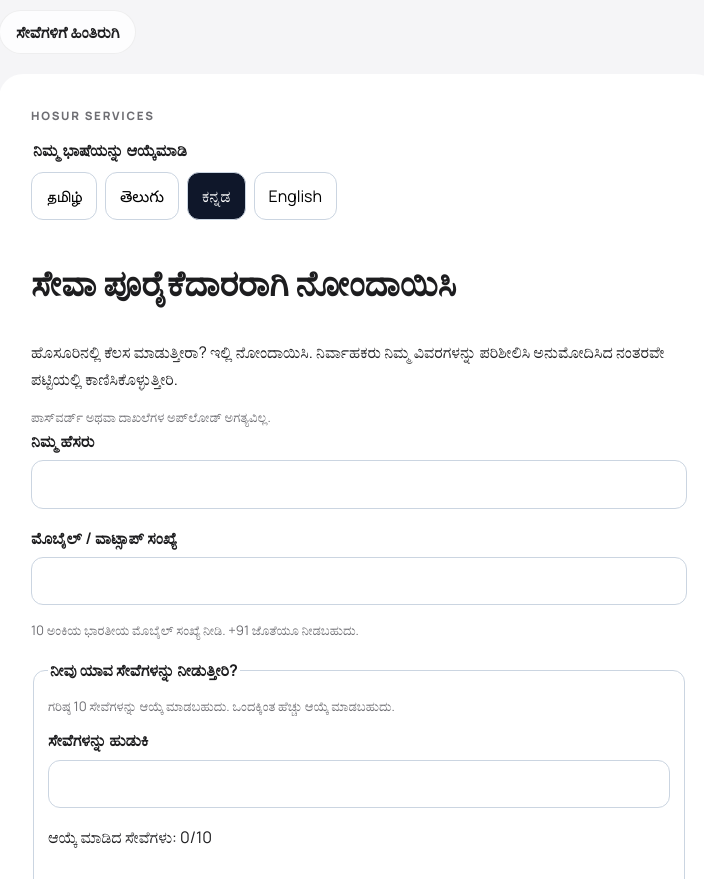
Test: provider registration › submits a pending application in kn without caching applicant details
The image size is (704, 879).
Type "ಕುಮಾರ್" into the field labelled "ನಿಮ್ಮ ಹೆಸರು". click: (359, 484)
box: [31,460,687,509]
Type "9876543210" into the field labelled "ಮೊಬೈಲ್ / ವಾಟ್ಸಾಪ್ ಸಂಖ್ಯೆ". click: (359, 581)
box: [31,557,687,605]
(page scrolled)
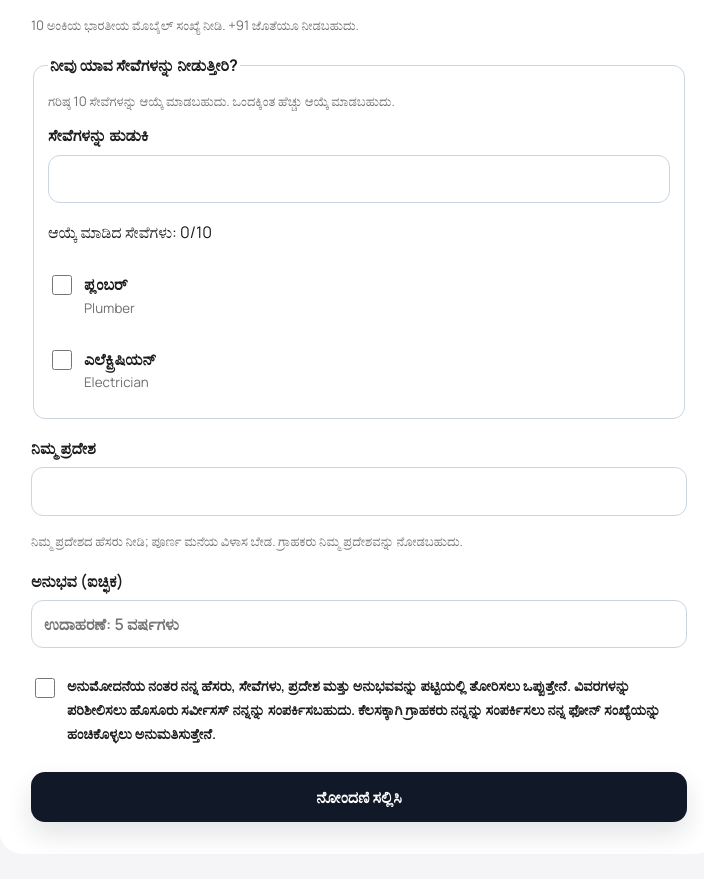
Type "Test locality" into the field labelled "ನಿಮ್ಮ ಪ್ರದೇಶ". click: (359, 492)
box: [31,468,687,516]
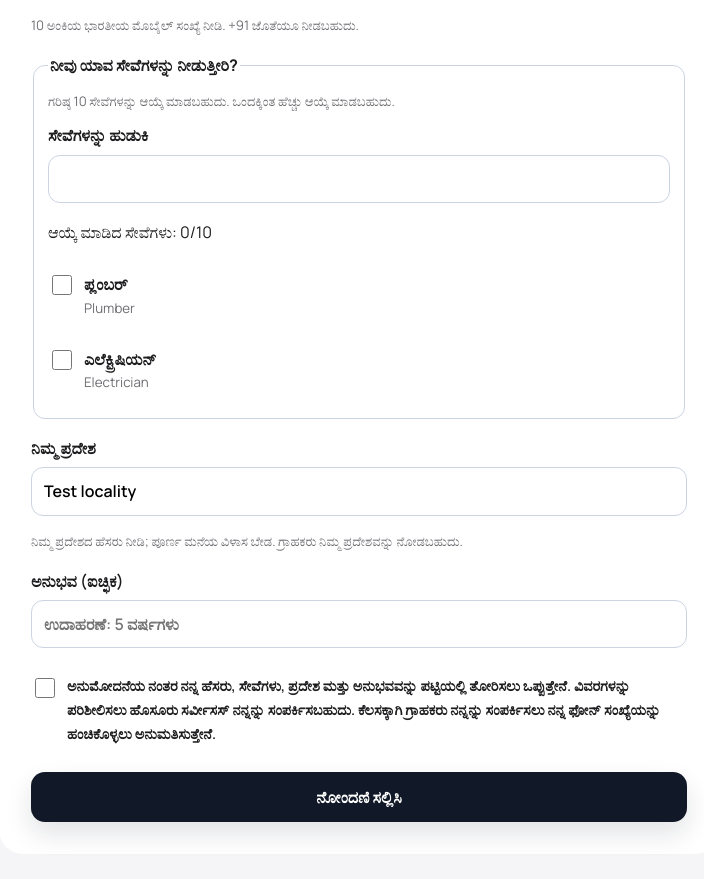
Click the checkbox labelled "ಪ್ಲಂಬರ್ Plumber". click: (62, 285)
box: [52,275,72,295]
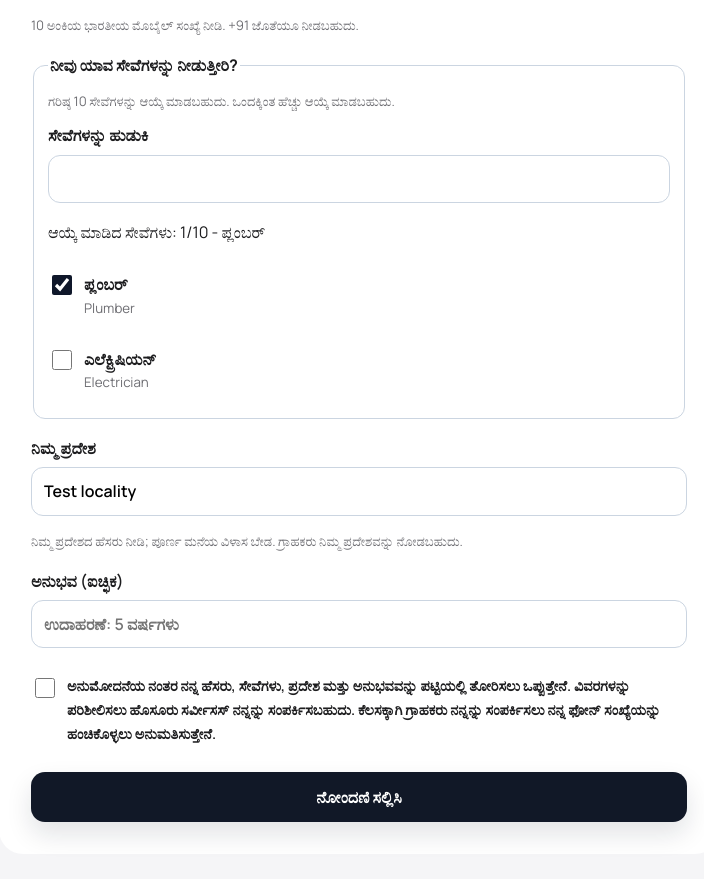
Click the checkbox named "ಅನುಮೋದನೆಯ ನಂತರ ನನ್ನ ಹೆಸರು, ಸೇವೆಗಳು, ಪ್ರದೇಶ ಮತ್ತು ಅನುಭವವನ್ನು ಪಟ್ಟಿಯಲ್ಲಿ ತೋರಿಸಲು ಒಪ್ಪುತ್ತೇನೆ. ವಿವರಗಳನ್ನು ಪರಿಶೀಲಿಸಲು ಹೊಸೂರು". click: (45, 688)
box: [35,678,55,698]
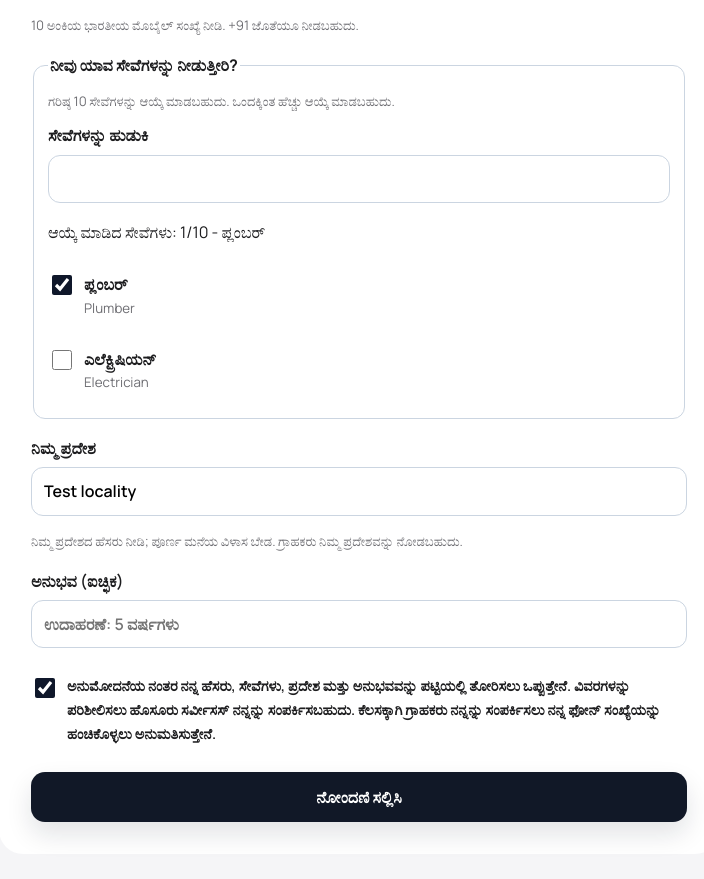
Click the checkbox labelled "ಎಲೆಕ್ಟ್ರಿಷಿಯನ್ Electrician". click: (62, 360)
box: [52,350,72,370]
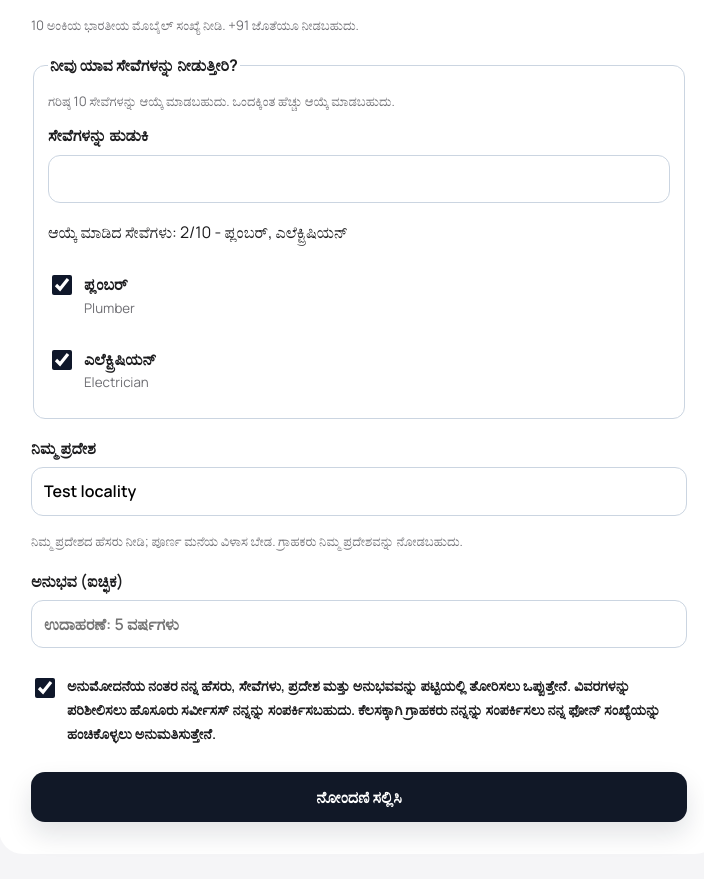
Click the button "ನೋಂದಣಿ ಸಲ್ಲಿಸಿ". click: (359, 797)
box: [31,772,687,822]
(page scrolled)
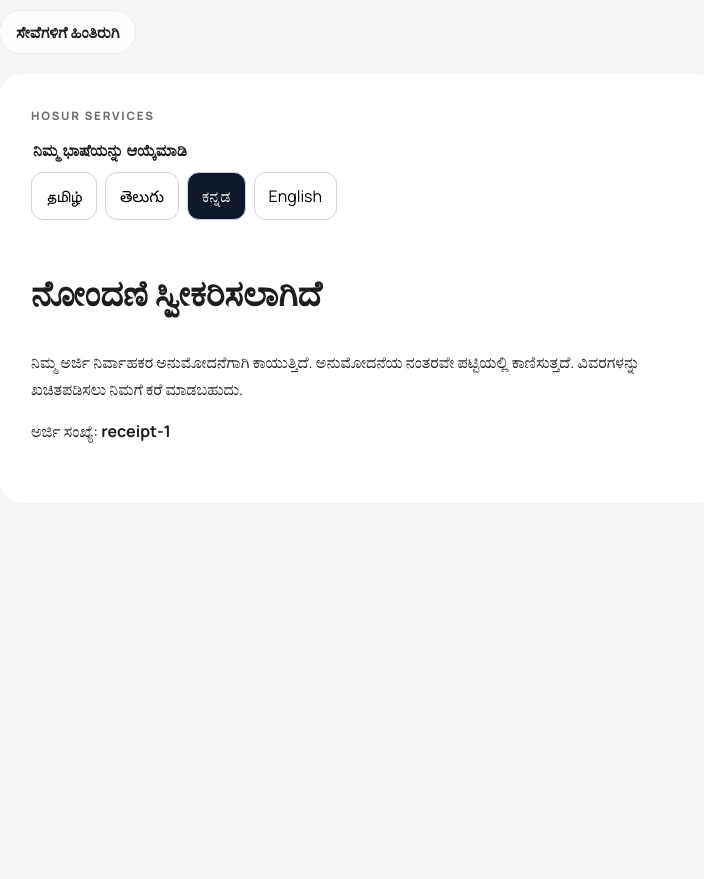
Check: the heading "ನೋಂದಣಿ ಸ್ವೀಕರಿಸಲಾಗಿದೆ" is shown, box [31,268,322,317]
Check: the text "ನಿಮ್ಮ ಅರ್ಜಿ ನಿರ್ವಾಹಕರ ಅನುಮೋದನೆಗಾಗಿ ಕಾಯುತ್ತಿದೆ. ಅನುಮೋದನೆಯ ನಂತರವೇ ಪಟ್ಟಿಯಲ್ಲಿ ಕಾಣಿಸುತ್ತದೆ. ವಿವರಗಳನ್ನು ಖಚಿತಪಡಿಸಲು ನಿಮಗೆ ಕರೆ " is shown, box [31,351,640,400]
